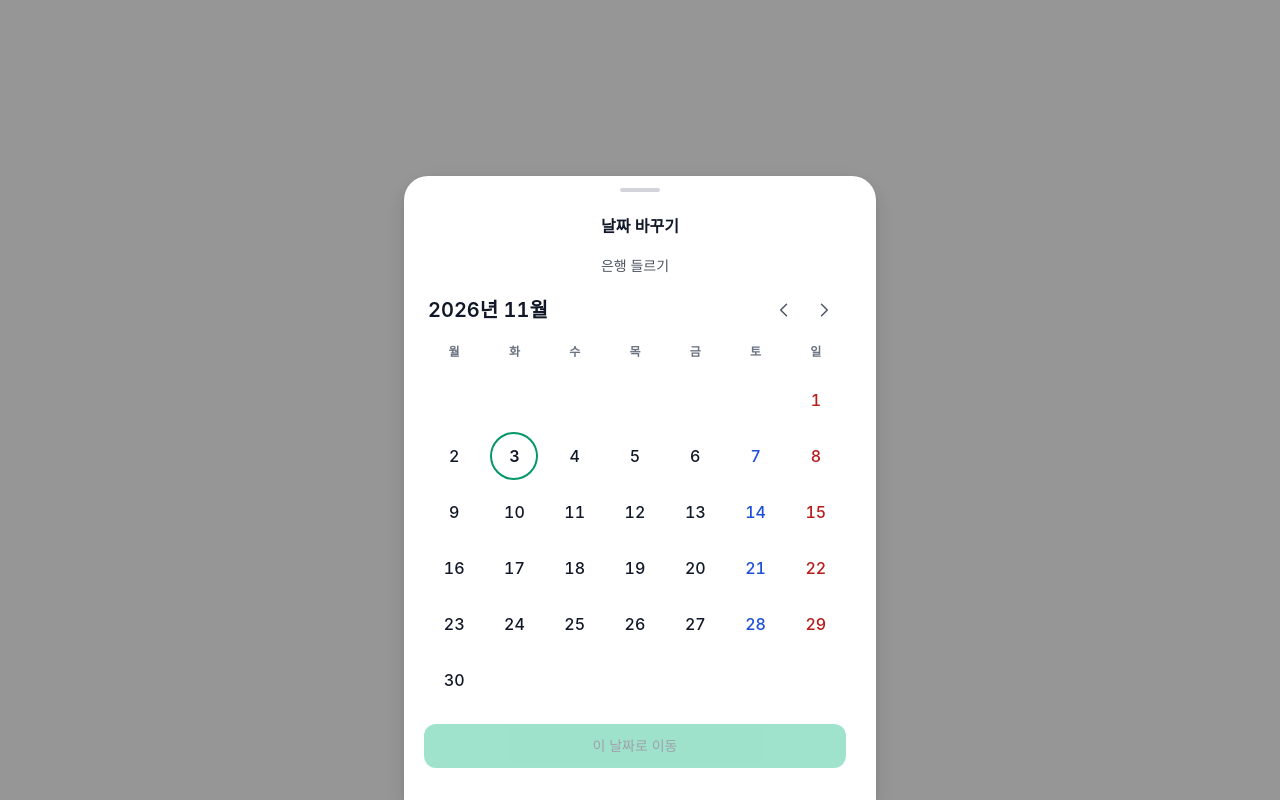
it: TodoDatePickerSheet › 달을 옮겨도 고른 날을 지키며, 같은 날로는 옮길 수 없다
The image size is (1280, 800).
Expected: the button "이 날짜로 이동" is disabled, [424,724,846,768]
What coordinates should you click on to do the following:
click the button named "다음 달"
I would click on:
 (824, 310)
Its box is [806,292,842,328].
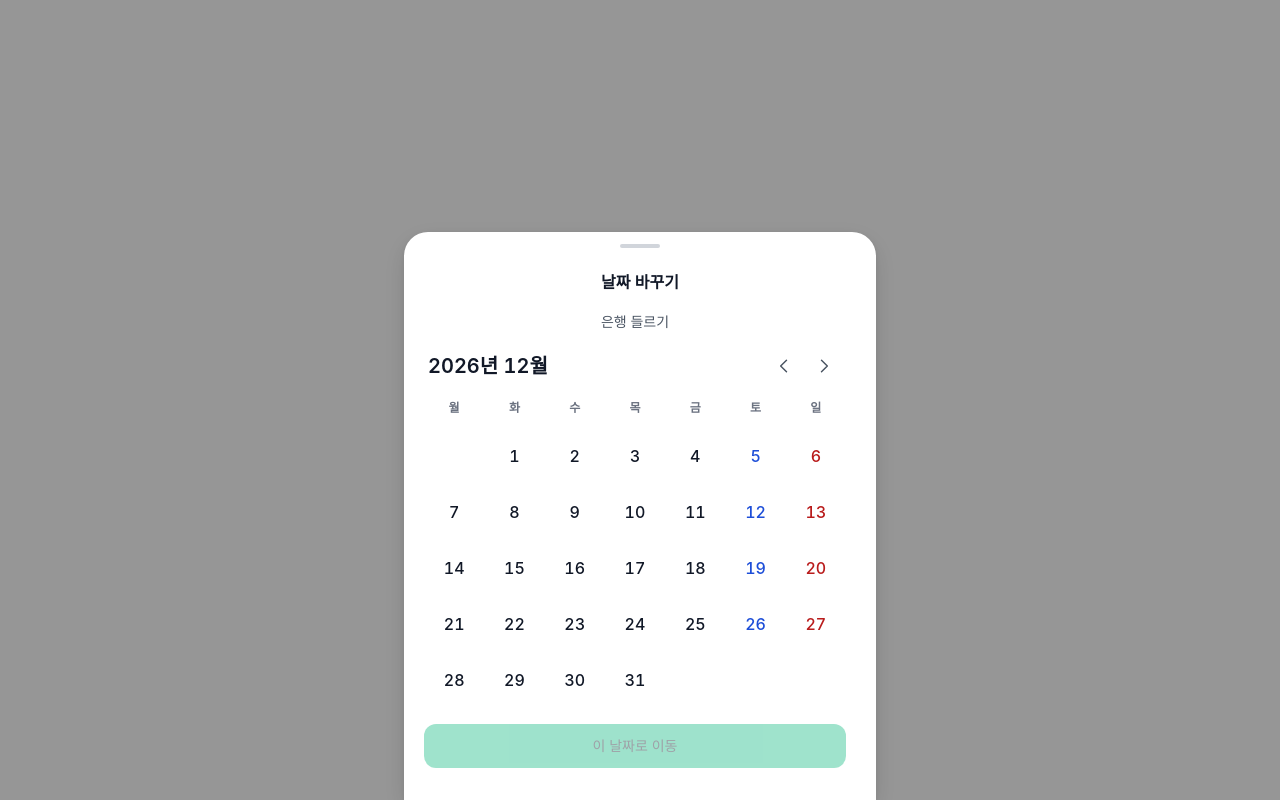
Result: the heading "2026년 12월" is shown at [428,352,548,380]
